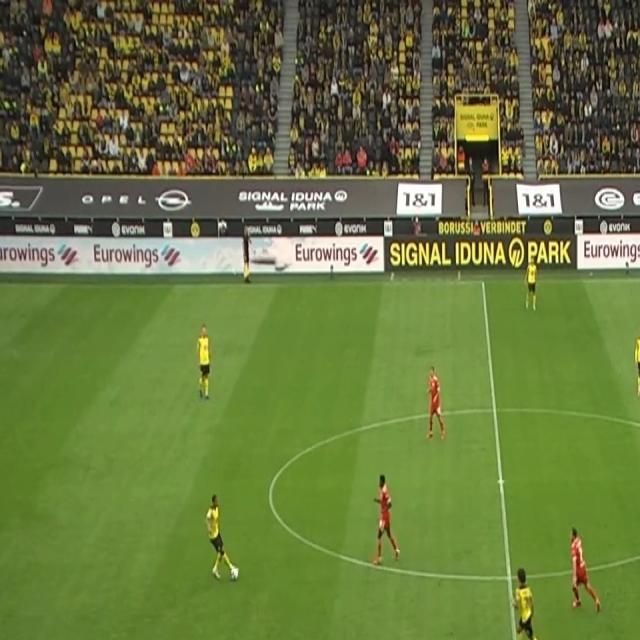ball: (229, 562, 240, 583)
